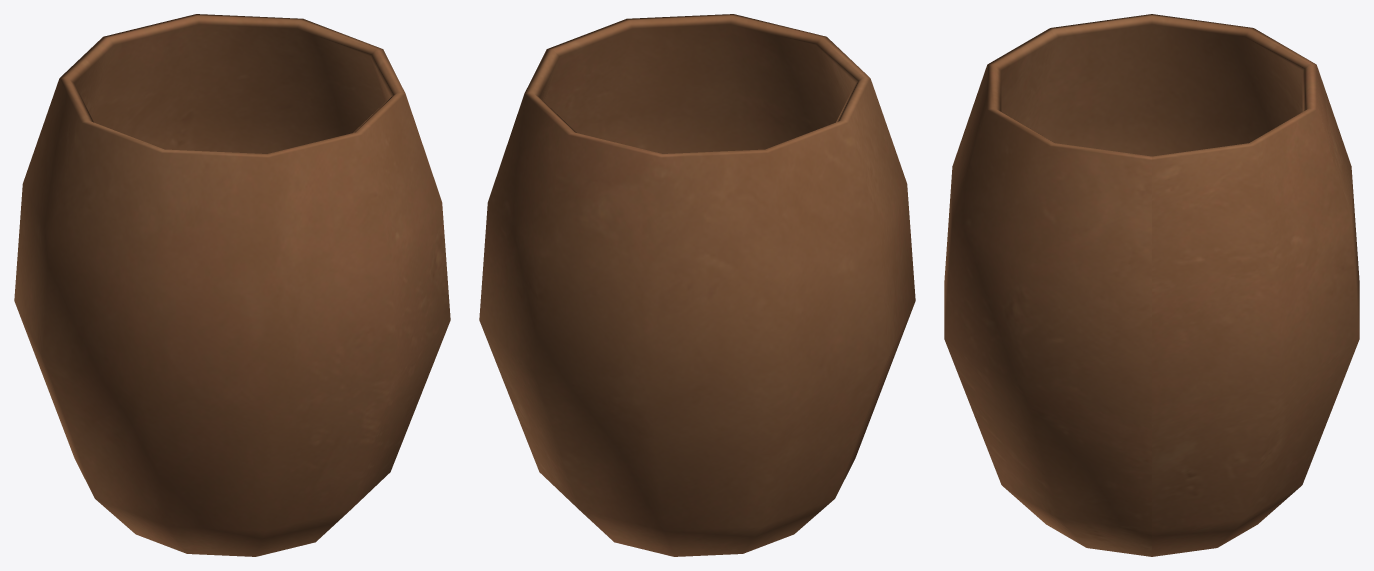
The model's file is BigCup.fbx.
3 views of the same model, side by side, from view 1: azimuth 30°, elevation 25°; view 2: azimuth 150°, elevation 25°; view 3: azimuth 270°, elevation 25° (orthographic).
Visible parts, largest first — view 1: BigCup; view 2: BigCup; view 3: BigCup.
Boxes of the visible parts, left/top/right/bottom form: BigCup: left=14, top=14, right=450, bottom=556; BigCup: left=479, top=14, right=915, bottom=556; BigCup: left=944, top=14, right=1359, bottom=556.
Bounding box in the file's own units: 8.8 × 9.47 × 8.37.
